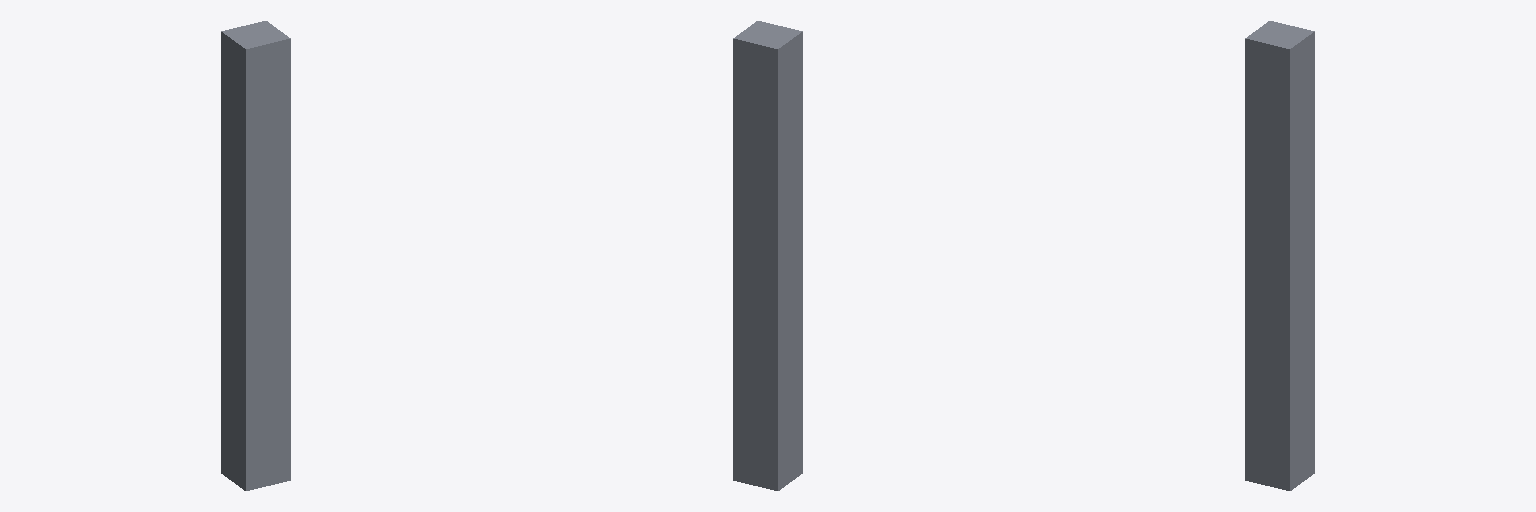
URDF robot description (artmanip_knife_000):
<?xml version='1.0' encoding='utf-8'?>
<robot name="artmanip_knife_000"><link name="link_0"><inertial><mass value="0.030852820228651844" /><inertia ixx="4.8834771533421813e-05" iyy="4.889047077332764e-05" izz="1.0355864820620962e-06" ixy="0" ixz="0" iyz="0" /></inertial><visual><geometry><box size="0.014567915959414555 0.013804358916559973 0.137125491751703" /></geometry><material name="link_0_color"><color rgba=".58 .60 .64 1" /></material></visual><collision><geometry><box size="0.014567915959414555 0.013804358916559973 0.137125491751703" /></geometry></collision></link><link name="link_1"><inertial><mass value="0.006" /><inertia ixx="4.545e-07" iyy="5e-07" izz="5.45e-08" ixy="0" ixz="0" iyz="0" /></inertial><visual><geometry><mesh filename="slider-shoulder.obj" /></geometry><material name="link_1_color"><color rgba=".12 .13 .15 1" /></material></visual><collision><geometry><mesh filename="slider-shoulder.obj" /></geometry></collision></link><joint name="slider" type="prismatic"><parent link="link_0" /><child link="link_1" /><origin xyz="-0.0009964645900642415 0.009316149939280902 0.015243461712701328" /><axis xyz="0 0 1" /><limit lower="-0.03267458688196273" upper="0.017325413118037272" effort="100" velocity="1" /><dynamics damping="1000" friction="0.001" /></joint></robot>

--- Render facts (derived) ---
The picture shows the robot from 3 angles, left to right: view 1: azimuth 30°, elevation 25°; view 2: azimuth 150°, elevation 25°; view 3: azimuth 330°, elevation 25°; orthographic projection.
Robot: artmanip_knife_000 — 2 links, 1 joints (1 prismatic); root link link_0; default pose: every joint at zero.
Visible links, largest first — view 1: link_0; view 2: link_0; view 3: link_0.
Link boxes in pixels (<box>): link_0: <box>221,21,290,490</box>; link_0: <box>733,21,802,490</box>; link_0: <box>1245,21,1314,490</box>.
Size in the robot's own frame: 0.0146 by 0.0138 by 0.1371 metres.
0 mesh visuals loaded from 1 distinct referenced files (none loaded); not drawn: 1 (reference not matched to a file when rendering).
